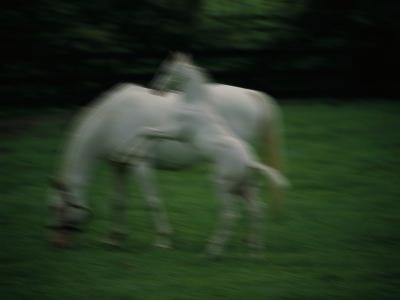horse: (45, 79, 286, 250)
